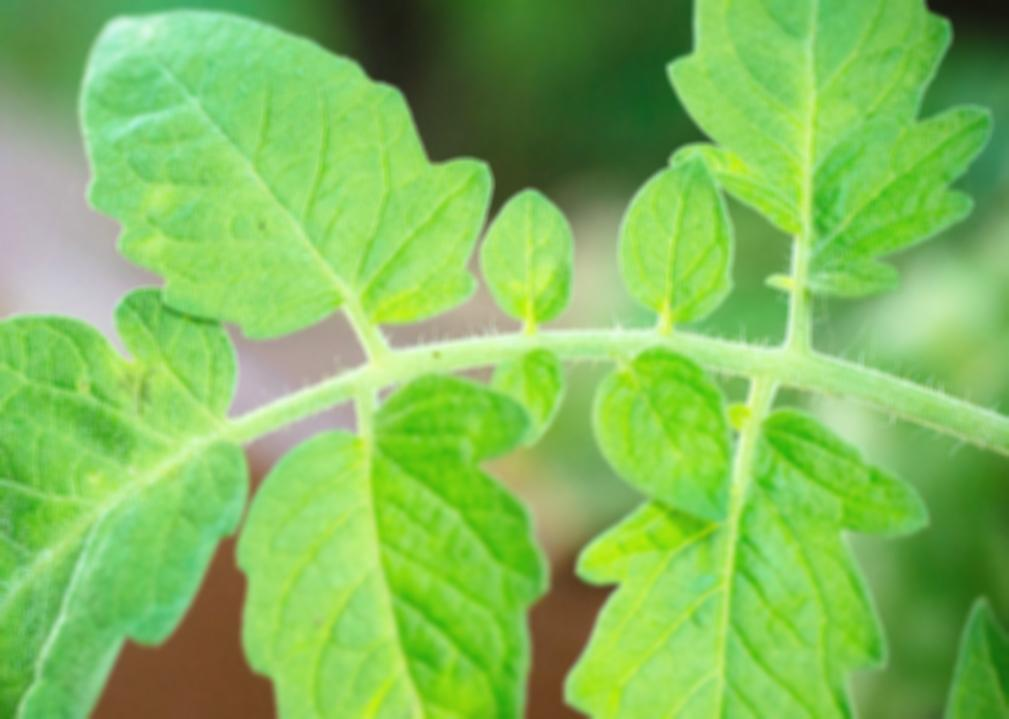Tomato leaf: (79, 0, 473, 361), (565, 398, 917, 719), (255, 366, 537, 719), (0, 292, 229, 719), (704, 0, 994, 305), (573, 339, 733, 521), (609, 164, 734, 344), (480, 175, 583, 344)
